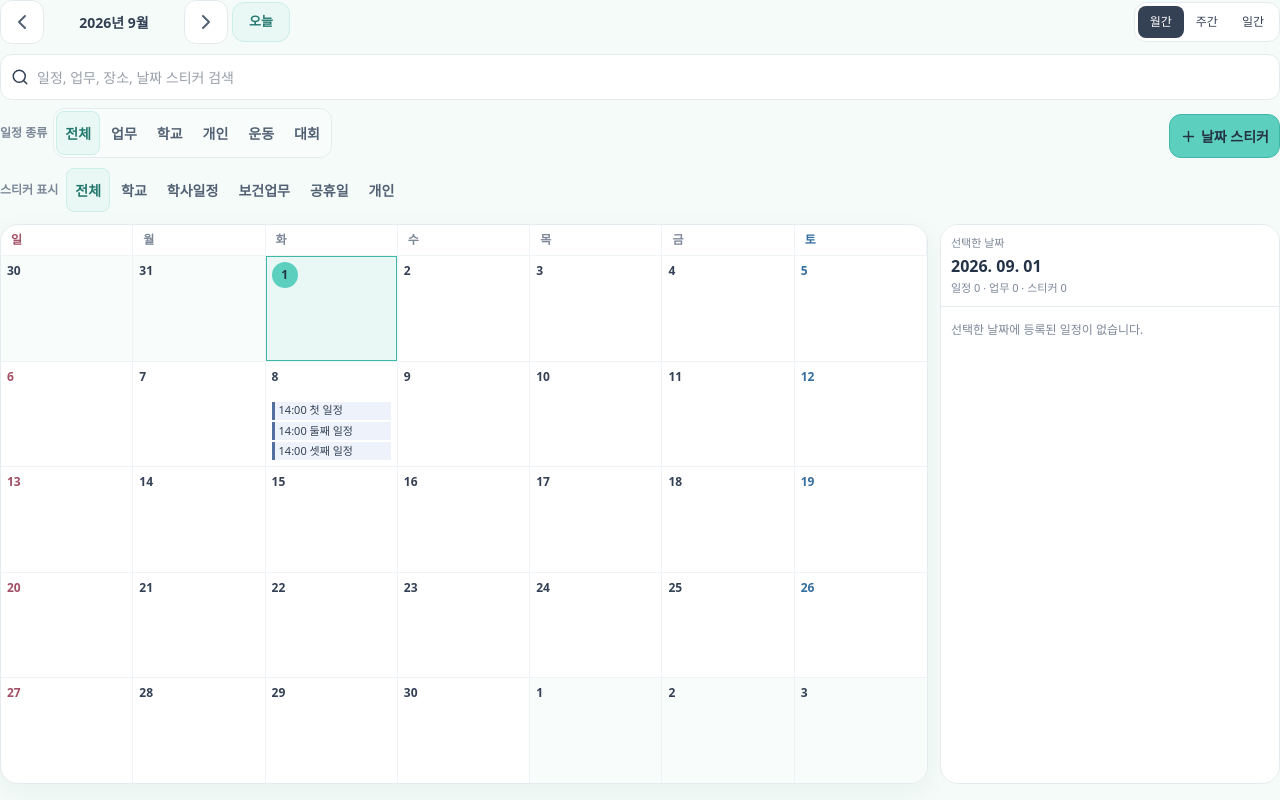
Test: CalendarWorkspace mobile date detail › closes the mobile date sheet without removing the calendar or its one-plus-overflow summary
Click the button named "2026-09-08 선택": (331,384) [272,368,391,400]
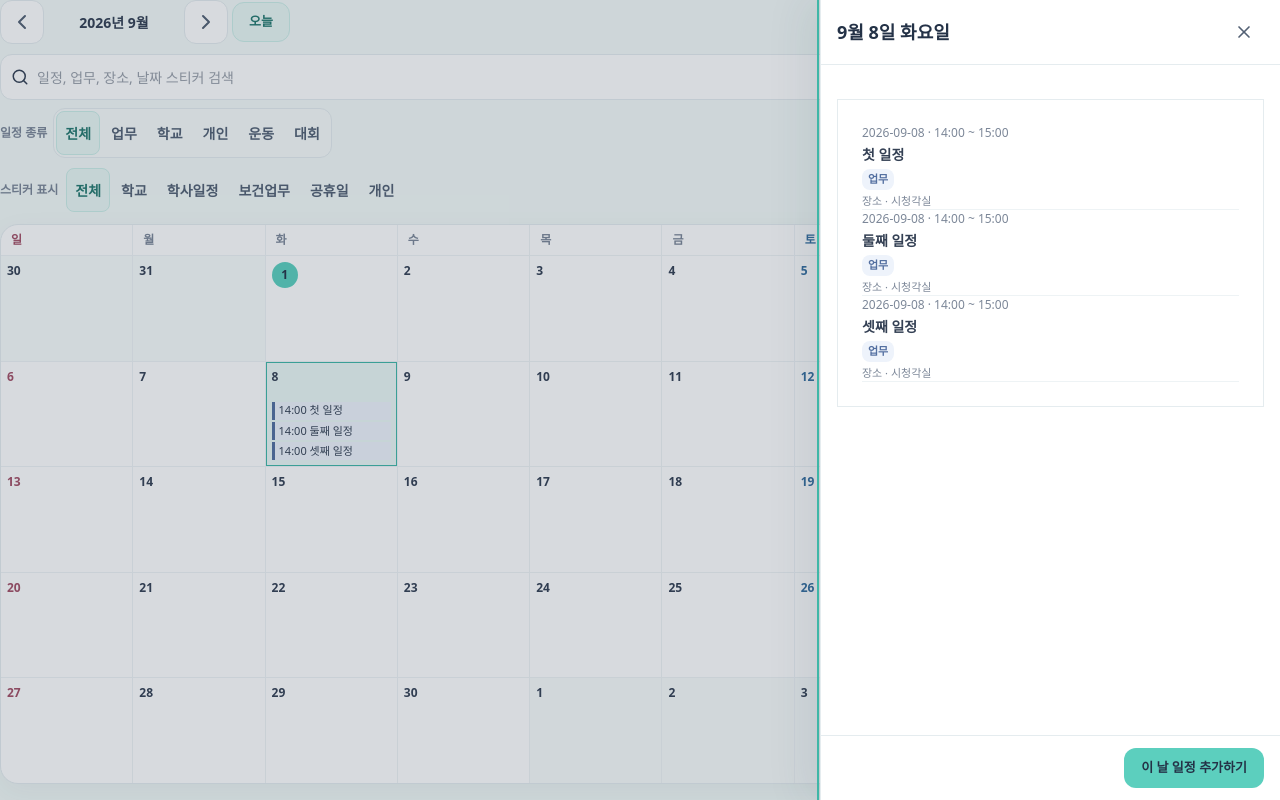
Click the button named "패널 닫기": (1244,32) [1224,12,1264,52]
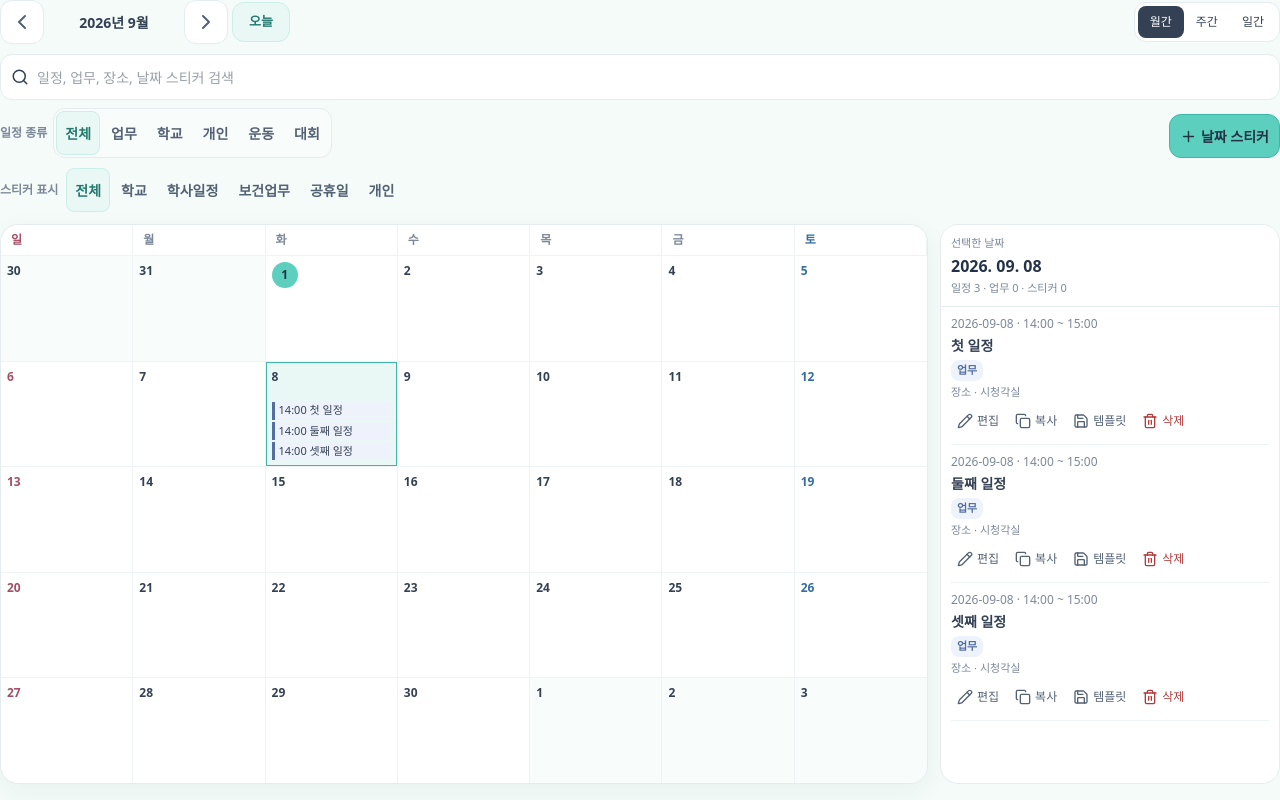
Expected: the table named "2026년 9월 월간 캘린더" is shown, [0,224,928,784]
Now the heading "9월 8일 화요일" is gone
